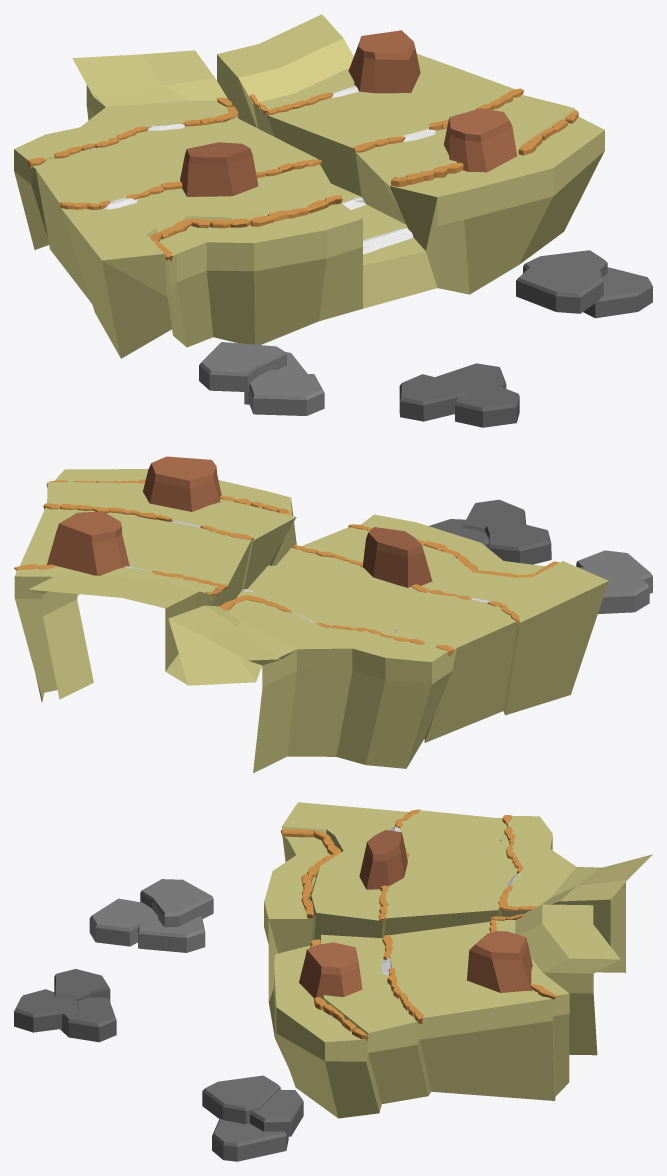
The model's file is DesertBiome.fbx.
The picture shows the model from 3 angles, top to bottom: view 1: azimuth 30°, elevation 25°; view 2: azimuth 150°, elevation 25°; view 3: azimuth 270°, elevation 25°; orthographic projection. The views are drawn at different scales.
Parts seen in each view (by area): view 1: DesertBase, Rocks, Island1, Island3, BigRock.002, BigRock.001, BigRock.000, Island2.001, Island2.002, SandRamps, Island2; view 2: DesertBase, Rocks, Island3, BigRock.002, BigRock.001, BigRock.000, Island1; view 3: DesertBase, Island1, Island3, Rocks, BigRock.002, BigRock.001, Island2.001, Island2.002, BigRock.000, Island2.
Part boxes in pixels (left/top/right/bottom): DesertBase: left=14, top=14, right=604, bottom=358; Rocks: left=27, top=88, right=578, bottom=261; Island1: left=199, top=342, right=324, bottom=415; Island3: left=399, top=363, right=519, bottom=427; BigRock.002: left=348, top=30, right=420, bottom=93; BigRock.001: left=443, top=108, right=517, bottom=172; BigRock.000: left=180, top=142, right=258, bottom=196; Island2.001: left=516, top=263, right=603, bottom=313; Island2.002: left=583, top=267, right=652, bottom=318; SandRamps: left=103, top=85, right=435, bottom=254; Island2: left=523, top=250, right=607, bottom=276; DesertBase: left=14, top=469, right=608, bottom=773; Rocks: left=14, top=479, right=559, bottom=656; Island3: left=429, top=499, right=551, bottom=564; BigRock.002: left=47, top=511, right=129, bottom=575; BigRock.001: left=143, top=456, right=221, bottom=511; BigRock.000: left=362, top=527, right=432, bottom=587; Island1: left=576, top=550, right=652, bottom=613; DesertBase: left=264, top=802, right=652, bottom=1118; Island1: left=89, top=879, right=213, bottom=952; Island3: left=14, top=969, right=116, bottom=1042; Rocks: left=281, top=809, right=556, bottom=1041; BigRock.002: left=467, top=931, right=532, bottom=992; BigRock.001: left=299, top=942, right=362, bottom=998; Island2.001: left=202, top=1075, right=280, bottom=1124; Island2.002: left=212, top=1118, right=288, bottom=1161; BigRock.000: left=359, top=830, right=407, bottom=889; Island2: left=250, top=1089, right=303, bottom=1136.
Bounding box in the file's own units: 111 × 36.47 × 128.
